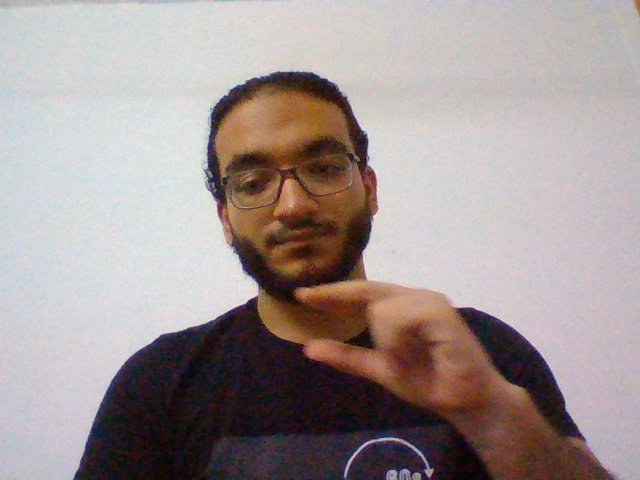No: (287, 277, 508, 421)
